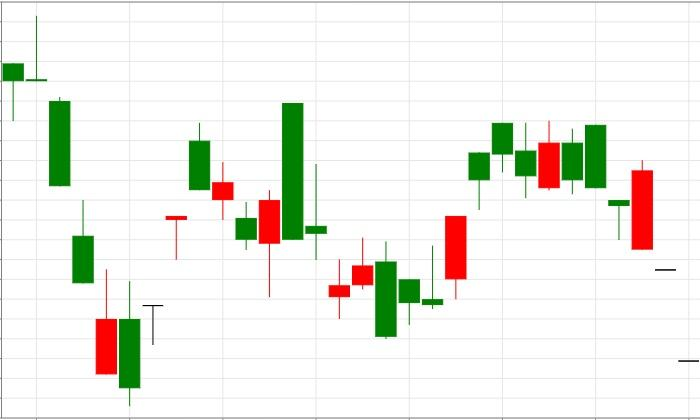bullish_engulfing_rise: (492, 121, 652, 249)
